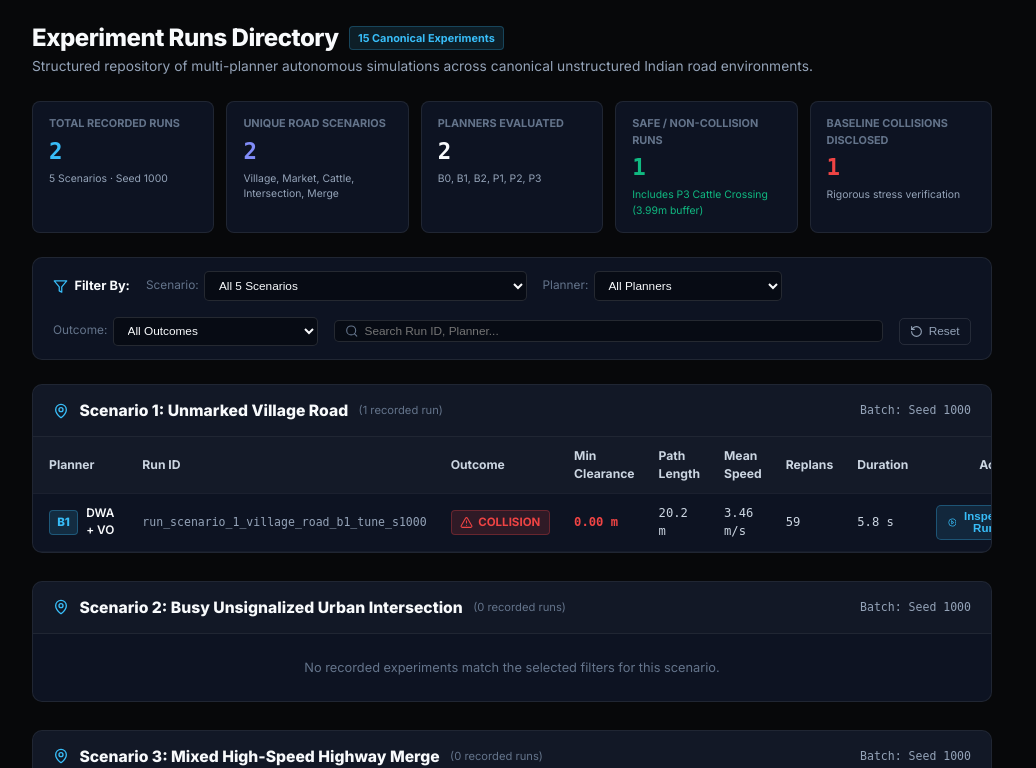
it: ExperimentDirectory Component › filters runs by outcome (Safe vs Collision)
Check: the text "run_scenario_1_village_road_b1_tune_s1000" is shown, box 130,493 -> 439,552
# Filter by Outcome: SAFE
Step 1. Select "Safe / Completed (0 Collisions)" in the dropdown showing "All Outcomes" next to "Outcome:" → [216, 331], box 113,317 -> 318,346
(page scrolled)
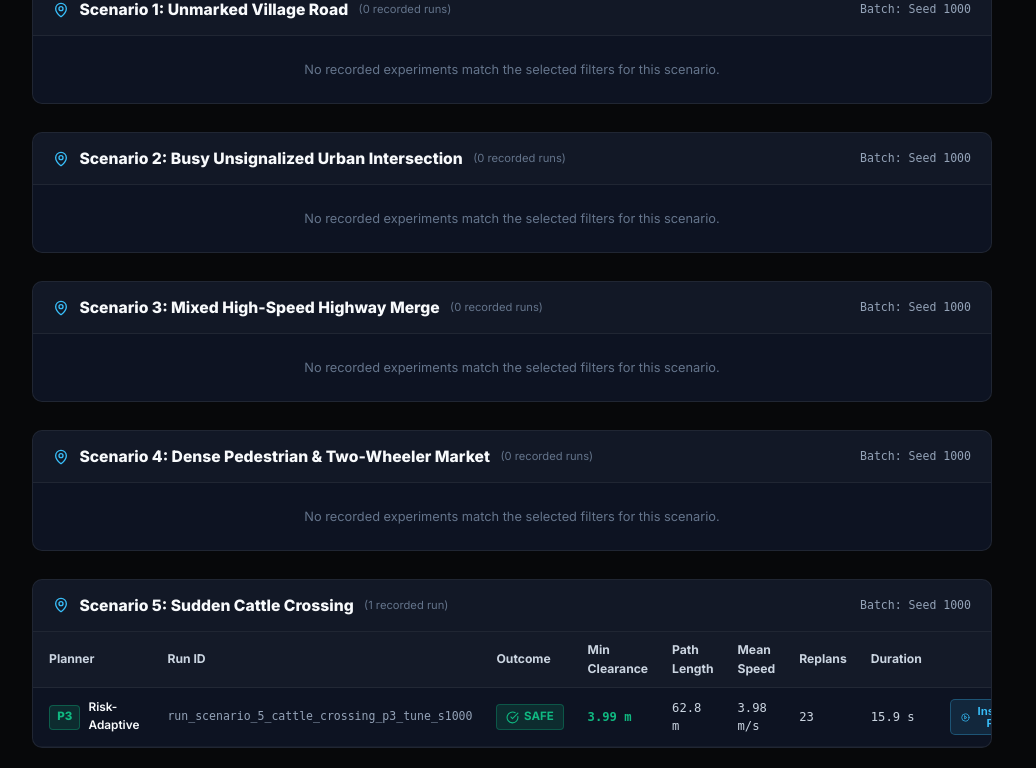
Check: the text "run_scenario_5_cattle_crossing_p3_tune_s1000" is shown, box 155,688 -> 484,746
Check: the text "run_scenario_1_village_road_b1_tune_s1000" is gone
